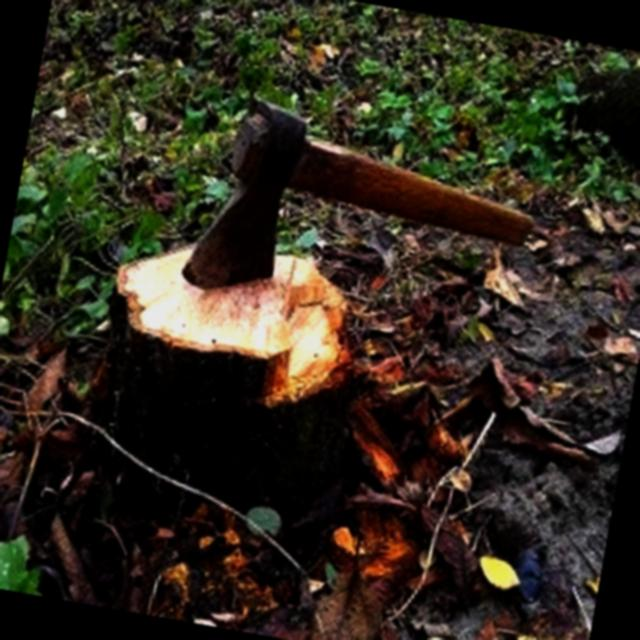ax: (163, 82, 552, 348)
